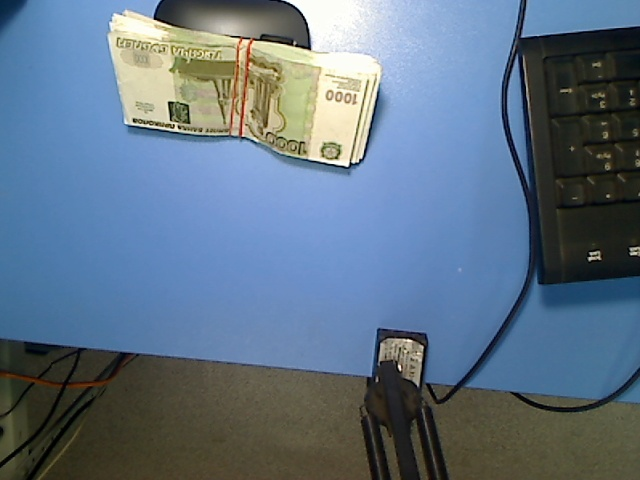banknotes: (104, 10, 384, 171)
